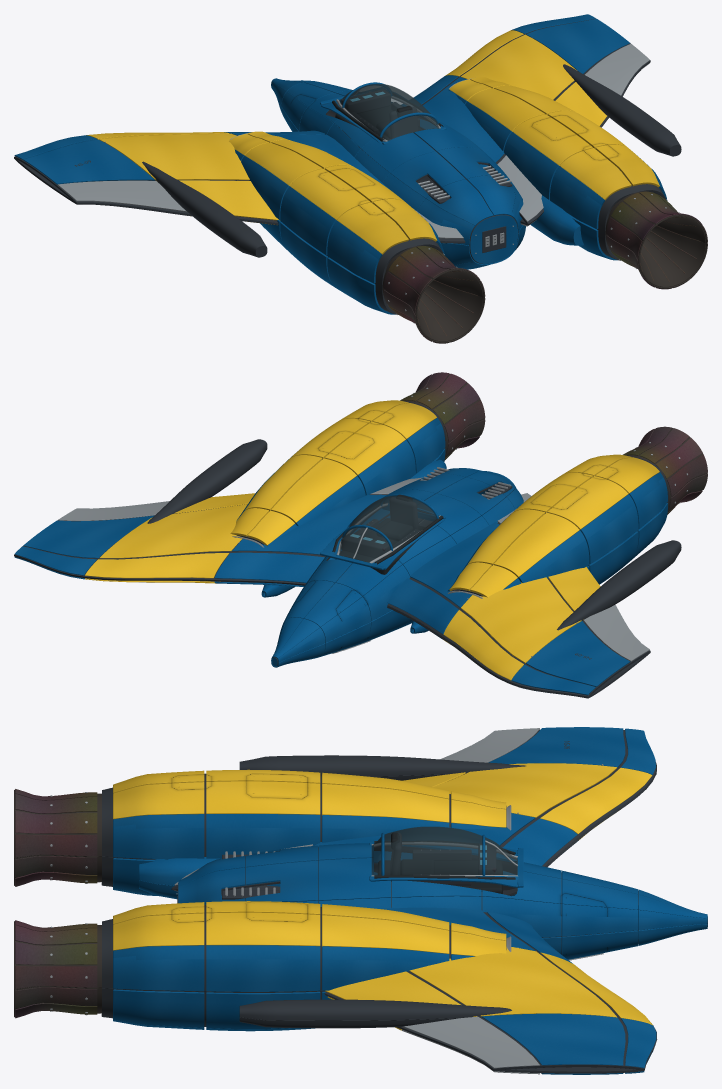
3 renders of one model, top to bottom at view 1: azimuth 30°, elevation 25°; view 2: azimuth 150°, elevation 25°; view 3: azimuth 270°, elevation 25°, orthographic. The views are drawn at different scales.
Parts seen in each view (by area): view 1: Fitted lifting skin.004, Fitted lifting skin.022, Recessed convergent nozzle liner, Recessed convergent nozzle liner.001, Fitted lifting skin.007, Thin laminated canopy glazing, Fitted lifting skin.025, Load-bearing shoulder fairing.001, Load-bearing shoulder fairing.003, Fitted lifting skin.008, Fitted lifting skin.019, Fitted lifting skin.005 (+59 smaller); view 2: Fitted lifting skin.004, Fitted lifting skin.022, Thin laminated canopy glazing, Fitted lifting skin.007, Fitted lifting skin.025, Fitted lifting skin.019, Load-bearing shoulder fairing.001, Fitted lifting skin.021, Load-bearing shoulder fairing.003, Fitted lifting skin.018, Removable nacelle cowl.018, Removable nacelle cowl.050 (+59 smaller); view 3: Fitted lifting skin.022, Load-bearing shoulder fairing.003, Thin laminated canopy glazing, Fitted lifting skin.025, Fitted lifting skin.004, Removable nacelle cowl.040, Load-bearing shoulder fairing.001, Removable nacelle cowl.008, Removable nacelle cowl.032, Removable nacelle cowl, Fitted lifting skin.007, Removable nacelle cowl.041 (+70 smaller).
Boxes of the visible parts, <box> form: Fitted lifting skin.004: <box>99,133,249,180</box>; Fitted lifting skin.022: <box>460,34,576,99</box>; Recessed convergent nozzle liner: <box>417,270,483,341</box>; Recessed convergent nozzle liner.001: <box>639,216,706,287</box>; Fitted lifting skin.007: <box>23,139,154,184</box>; Thin laminated canopy glazing: <box>339,83,438,140</box>; Fitted lifting skin.025: <box>526,18,629,73</box>; Load-bearing shoulder fairing.001: <box>142,161,266,256</box>; Load-bearing shoulder fairing.003: <box>563,64,679,155</box>; Fitted lifting skin.008: <box>57,180,186,211</box>; Fitted lifting skin.019: <box>420,77,504,167</box>; Fitted lifting skin.005: <box>157,180,279,220</box>; Fitted lifting skin.004: <box>461,577,581,663</box>; Fitted lifting skin.022: <box>99,504,247,558</box>; Thin laminated canopy glazing: <box>339,495,438,562</box>; Fitted lifting skin.007: <box>526,621,630,686</box>; Fitted lifting skin.025: <box>23,515,154,558</box>; Fitted lifting skin.019: <box>232,494,389,554</box>; Load-bearing shoulder fairing.001: <box>557,540,681,630</box>; Fitted lifting skin.021: <box>85,553,229,578</box>; Load-bearing shoulder fairing.003: <box>147,439,267,523</box>; Fitted lifting skin.018: <box>214,552,334,583</box>; Removable nacelle cowl.018: <box>494,512,579,577</box>; Removable nacelle cowl.050: <box>271,458,356,523</box>; Fitted lifting skin.022: <box>409,947,617,1017</box>; Load-bearing shoulder fairing.003: <box>239,999,511,1028</box>; Thin laminated canopy glazing: <box>371,826,517,875</box>; Fitted lifting skin.025: <box>481,1013,625,1065</box>; Fitted lifting skin.004: <box>434,763,617,817</box>; Removable nacelle cowl.040: <box>206,945,320,991</box>; Load-bearing shoulder fairing.001: <box>239,755,525,780</box>; Removable nacelle cowl.008: <box>206,814,320,858</box>; Removable nacelle cowl.032: <box>113,945,204,991</box>; Removable nacelle cowl: <box>113,814,204,859</box>; Fitted lifting skin.007: <box>488,727,625,767</box>; Removable nacelle cowl.041: <box>206,912,320,946</box>.
Size of the model in its own units: 3.66 by 0.7099 by 3.17.
Materials: 9 (3 with a texture image).
